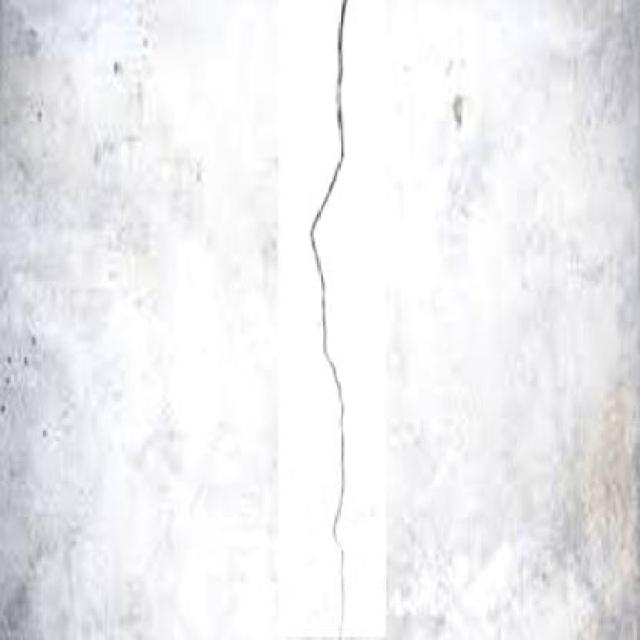Crack: (270, 0, 415, 640)
